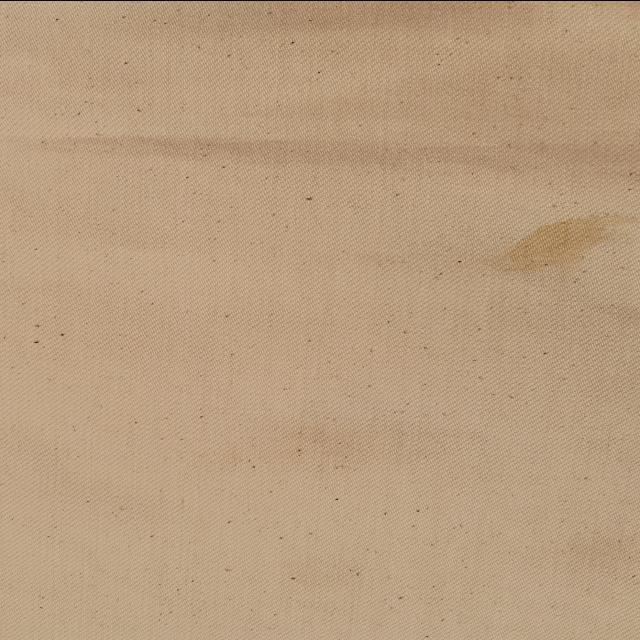taaaches: (474, 206, 630, 280)
